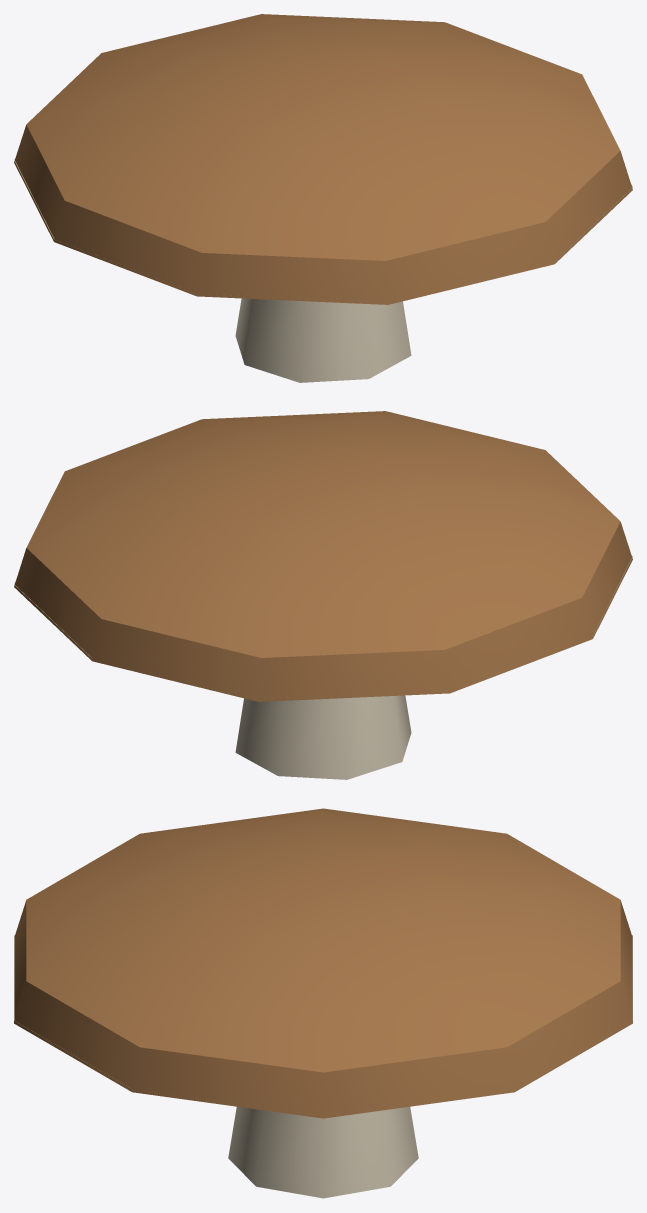
Rendered from mushroom_flat.glb.
The picture shows the model from 3 angles, top to bottom: view 1: azimuth 30°, elevation 25°; view 2: azimuth 150°, elevation 25°; view 3: azimuth 270°, elevation 25°; orthographic projection. The views are drawn at different scales.
Parts seen in each view (by area): view 1: mushroom_flat; view 2: mushroom_flat; view 3: mushroom_flat.
Part boxes in pixels (<box>): mushroom_flat: <box>14,14,632,382</box>; mushroom_flat: <box>14,411,632,779</box>; mushroom_flat: <box>14,808,632,1198</box>.
Size of the model in its own units: 0.11 by 0.0518 by 0.1046.
